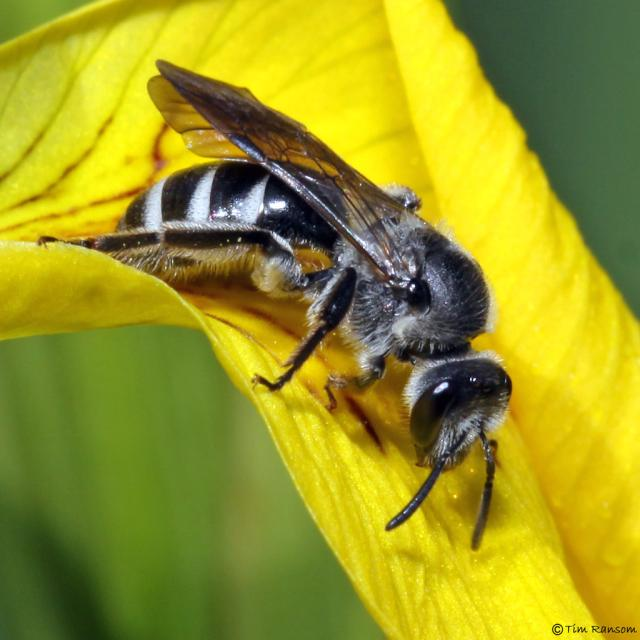Xylocopa: (37, 47, 549, 558)
